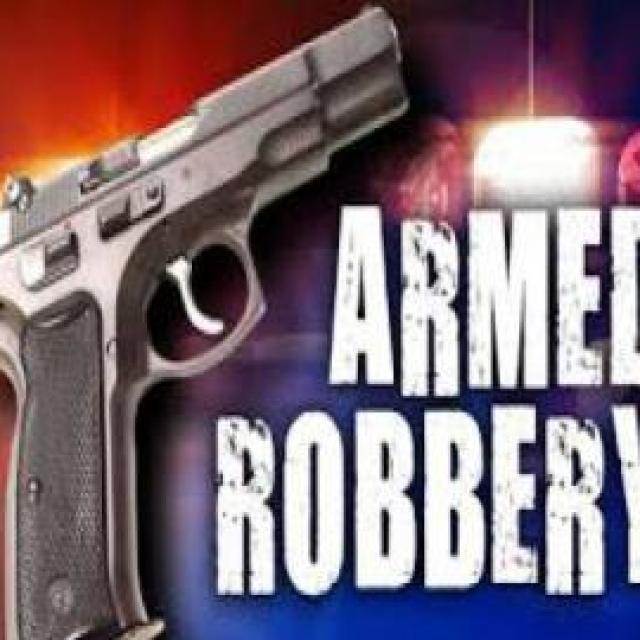pistol: (0, 4, 405, 640)
